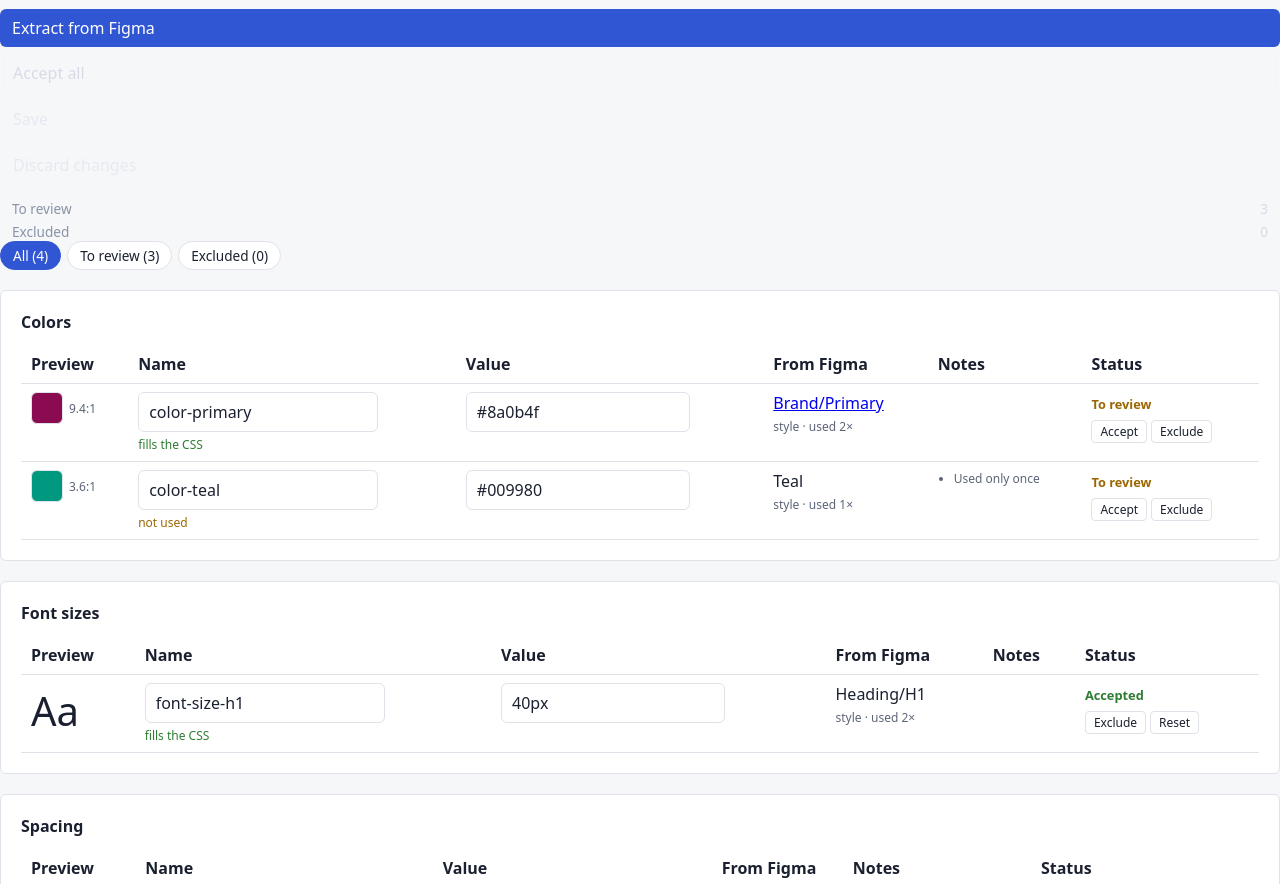
Test: TokenReview › accepts all tokens to review except missing ones
Click the button "Accept all". click: {"x": 49, "y": 73}
box: [0, 53, 1279, 93]
(page scrolled)
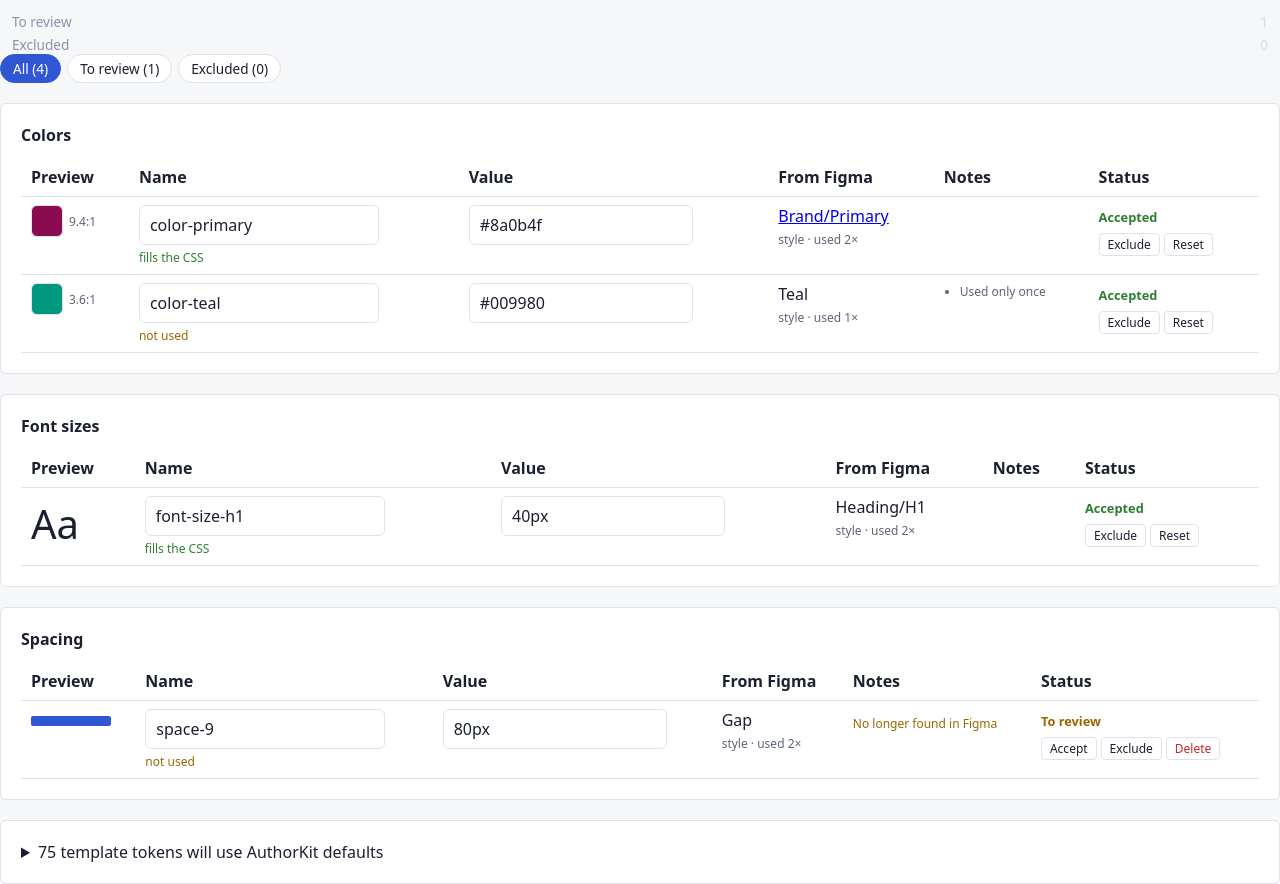
expect the text "To review" in the row of "Gap" is shown: met, box [1041, 712, 1101, 730]
expect the text "Accepted" in the row of "9.4" is shown: met, box [1099, 208, 1158, 226]
expect the text "Accepted" in the row of "3.6" is shown: met, box [1099, 286, 1158, 304]
